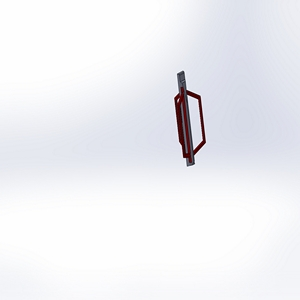submarine: (152, 63, 221, 195)
